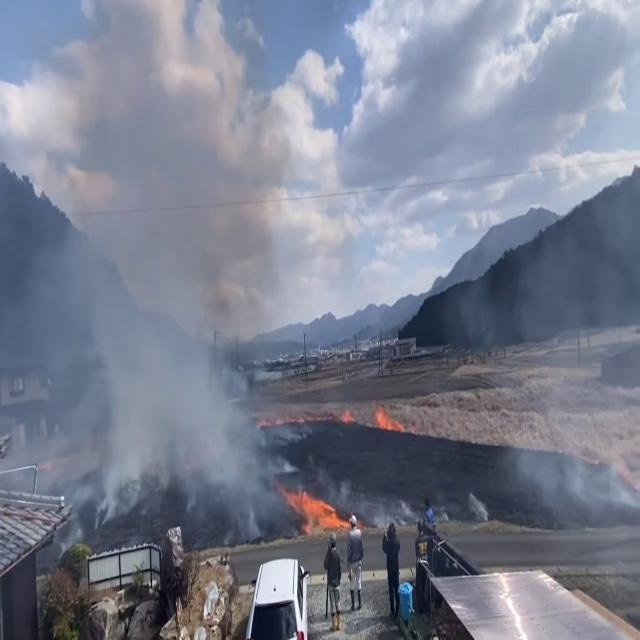Fire: (286, 486, 354, 536), (340, 394, 410, 436)
Smoke: (1, 82, 297, 543), (484, 207, 640, 516)
